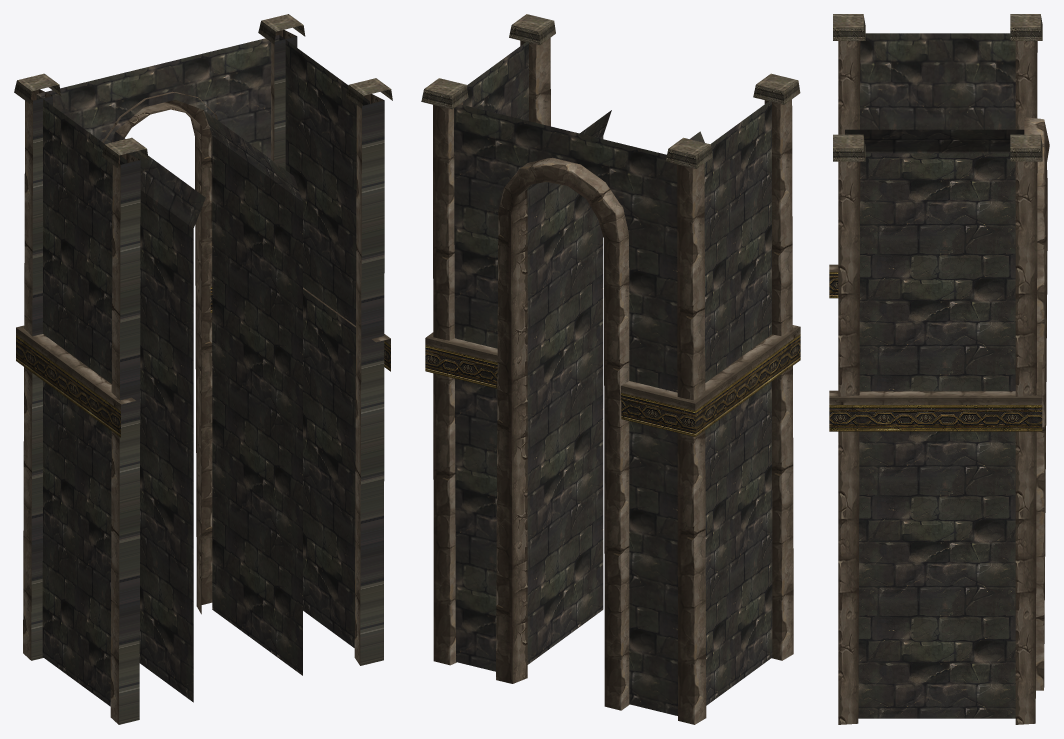
Rendered from Hall_short_un_arch.FBX.
3 views of the same model, side by side, from view 1: azimuth 30°, elevation 25°; view 2: azimuth 150°, elevation 25°; view 3: azimuth 270°, elevation 25° (orthographic).
Parts seen in each view (by area): view 1: Hall_short_un_arch; view 2: Hall_short_un_arch; view 3: Hall_short_un_arch.
Boxes of the visible parts, x1=… form: Hall_short_un_arch: x1=14, y1=14, x2=392, y2=724; Hall_short_un_arch: x1=421, y1=14, x2=800, y2=724; Hall_short_un_arch: x1=829, y1=14, x2=1049, y2=724.
Size of the model in its own units: 8.22 by 16.33 by 5.64.
